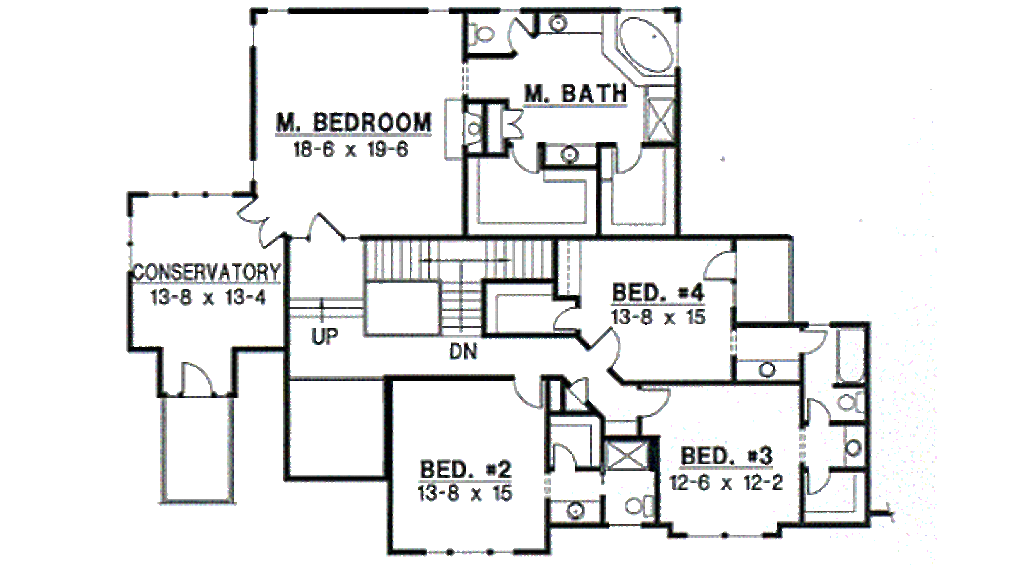door: (231, 191, 286, 252), (178, 353, 222, 403), (298, 208, 350, 243), (583, 320, 620, 369), (508, 140, 550, 180), (702, 248, 743, 284), (635, 382, 673, 420), (502, 15, 537, 54), (512, 372, 544, 414), (612, 141, 645, 175), (797, 324, 826, 361), (799, 392, 832, 424), (499, 104, 526, 141), (562, 372, 591, 403), (550, 440, 578, 472), (553, 301, 584, 328), (802, 466, 831, 494)
large_sink: (463, 13, 498, 52), (620, 486, 657, 518), (836, 389, 871, 419)
small_sink: (532, 6, 601, 37), (551, 494, 597, 527), (551, 144, 592, 165), (739, 360, 783, 379), (843, 432, 868, 465)
stairs: (360, 234, 551, 341), (285, 240, 369, 342)
tub: (612, 6, 683, 81), (834, 325, 861, 381)
window: (685, 525, 761, 542), (429, 544, 510, 558)
